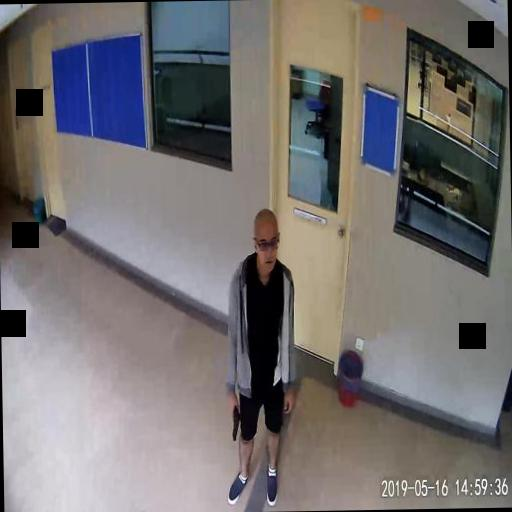Handgun: (228, 400, 238, 440)
